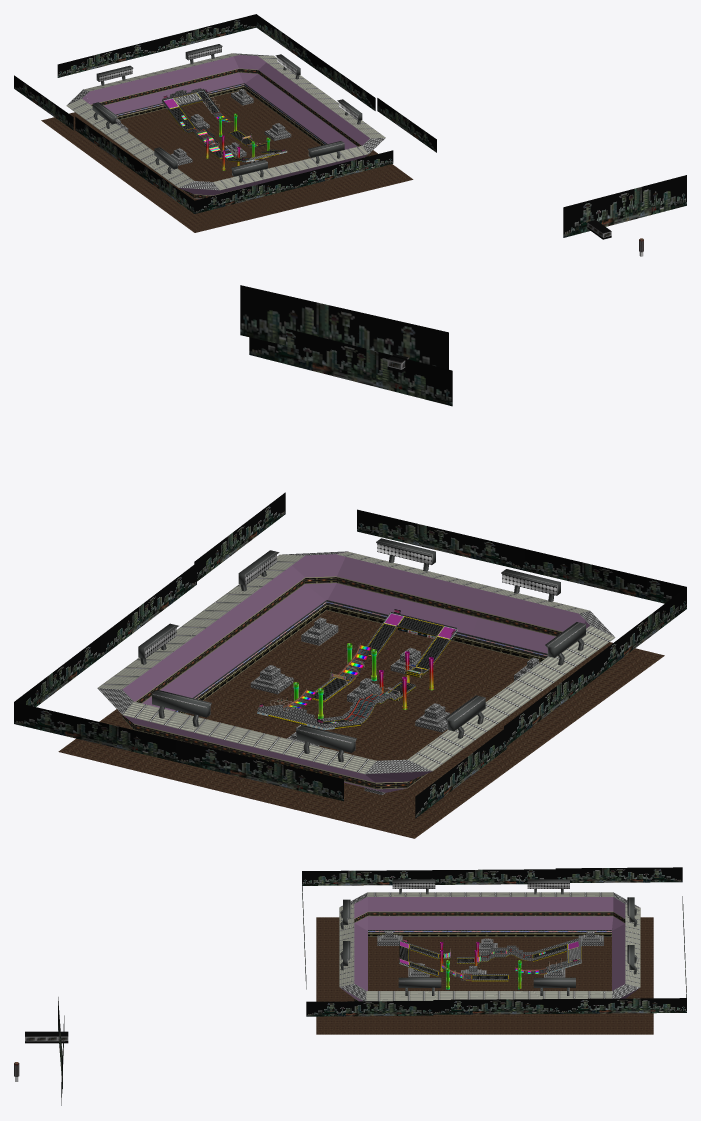
The picture shows the model from 3 angles, top to bottom: view 1: azimuth 30°, elevation 25°; view 2: azimuth 150°, elevation 25°; view 3: azimuth 270°, elevation 25°; orthographic projection. The views are drawn at different scales.
Visible parts, largest first — view 1: course_model-SKP--auto6, course_model-SKP--m2, course_model-SKP--auto24, course_model-SKP--auto22, course_model-SKP--auto2, course_model-SKP--m14, course_model-SKP--auto17, course_model-SKP--auto7, course_model-SKP--auto30, course_model-SKP--auto19; view 2: course_model-SKP--m2, course_model-SKP--auto6, course_model-SKP--auto24, course_model-SKP--auto22, course_model-SKP--auto17, course_model-SKP--m14, course_model-SKP--auto2, course_model-SKP--auto7, course_model-SKP--auto30, course_model-SKP--m11, course_model-SKP--auto19; view 3: course_model-SKP--auto6, course_model-SKP--m2, course_model-SKP--auto24, course_model-SKP--auto22, course_model-SKP--auto2, course_model-SKP--auto17, course_model-SKP--m14, course_model-SKP--auto7, course_model-SKP--auto19, course_model-SKP--auto30.
Boxes of the visible parts, left/top/right/bottom form: course_model-SKP--auto6: left=41, top=89, right=413, bottom=232; course_model-SKP--m2: left=14, top=14, right=686, bottom=237; course_model-SKP--auto24: left=82, top=55, right=369, bottom=199; course_model-SKP--auto22: left=66, top=53, right=643, bottom=252; course_model-SKP--auto2: left=67, top=53, right=643, bottom=256; course_model-SKP--m14: left=92, top=44, right=362, bottom=182; course_model-SKP--auto17: left=90, top=68, right=370, bottom=198; course_model-SKP--auto7: left=170, top=91, right=280, bottom=160; course_model-SKP--auto30: left=206, top=113, right=270, bottom=170; course_model-SKP--auto19: left=168, top=92, right=280, bottom=161; course_model-SKP--m2: left=14, top=285, right=686, bottom=818; course_model-SKP--auto6: left=58, top=610, right=664, bottom=838; course_model-SKP--auto24: left=122, top=551, right=590, bottom=792; course_model-SKP--auto22: left=97, top=357, right=615, bottom=773; course_model-SKP--auto17: left=122, top=576, right=562, bottom=789; course_model-SKP--m14: left=138, top=538, right=585, bottom=762; course_model-SKP--auto2: left=97, top=551, right=614, bottom=794; course_model-SKP--auto7: left=279, top=617, right=448, bottom=723; course_model-SKP--auto30: left=293, top=643, right=433, bottom=718; course_model-SKP--m11: left=283, top=648, right=387, bottom=720; course_model-SKP--auto19: left=268, top=616, right=450, bottom=728; course_model-SKP--auto6: left=316, top=917, right=653, bottom=1034; course_model-SKP--m2: left=58, top=867, right=686, bottom=1105; course_model-SKP--auto24: left=341, top=897, right=639, bottom=1001; course_model-SKP--auto22: left=14, top=892, right=640, bottom=1076; course_model-SKP--auto2: left=15, top=892, right=639, bottom=1081; course_model-SKP--auto17: left=354, top=911, right=625, bottom=1001; course_model-SKP--m14: left=340, top=879, right=637, bottom=995; course_model-SKP--auto7: left=400, top=945, right=580, bottom=978; course_model-SKP--auto19: left=399, top=944, right=581, bottom=981; course_model-SKP--auto30: left=440, top=942, right=521, bottom=989.
Bounding box in the file's own units: 175237 × 21942 × 238885.
23 materials, 23 textured.
